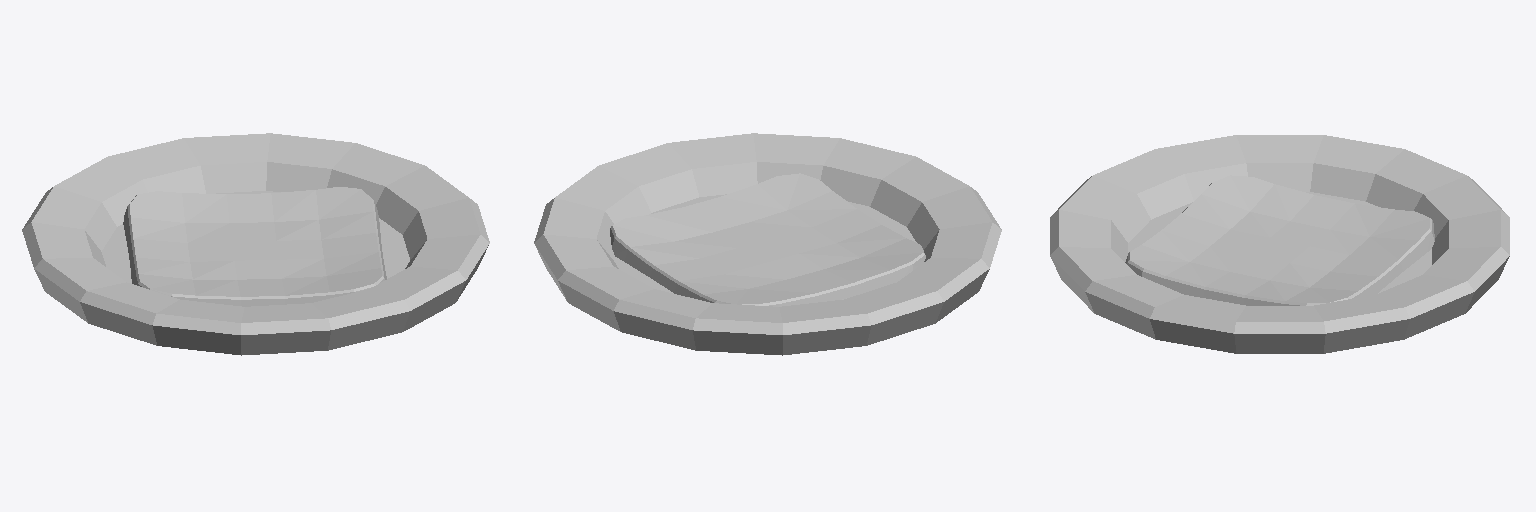
Rendered from plate.obj.
3 renders of one model, left to right at view 1: azimuth 30°, elevation 25°; view 2: azimuth 150°, elevation 25°; view 3: azimuth 270°, elevation 25°, orthographic.
Visible parts, largest first — view 1: plate; view 2: plate; view 3: plate.
Boxes of the visible parts, box(x1,y1,x2,y2) form: plate: box(22, 133, 489, 355); plate: box(534, 133, 1001, 355); plate: box(1050, 135, 1509, 353).
Bounding box in the file's own units: 0.75 × 0.1 × 0.75.